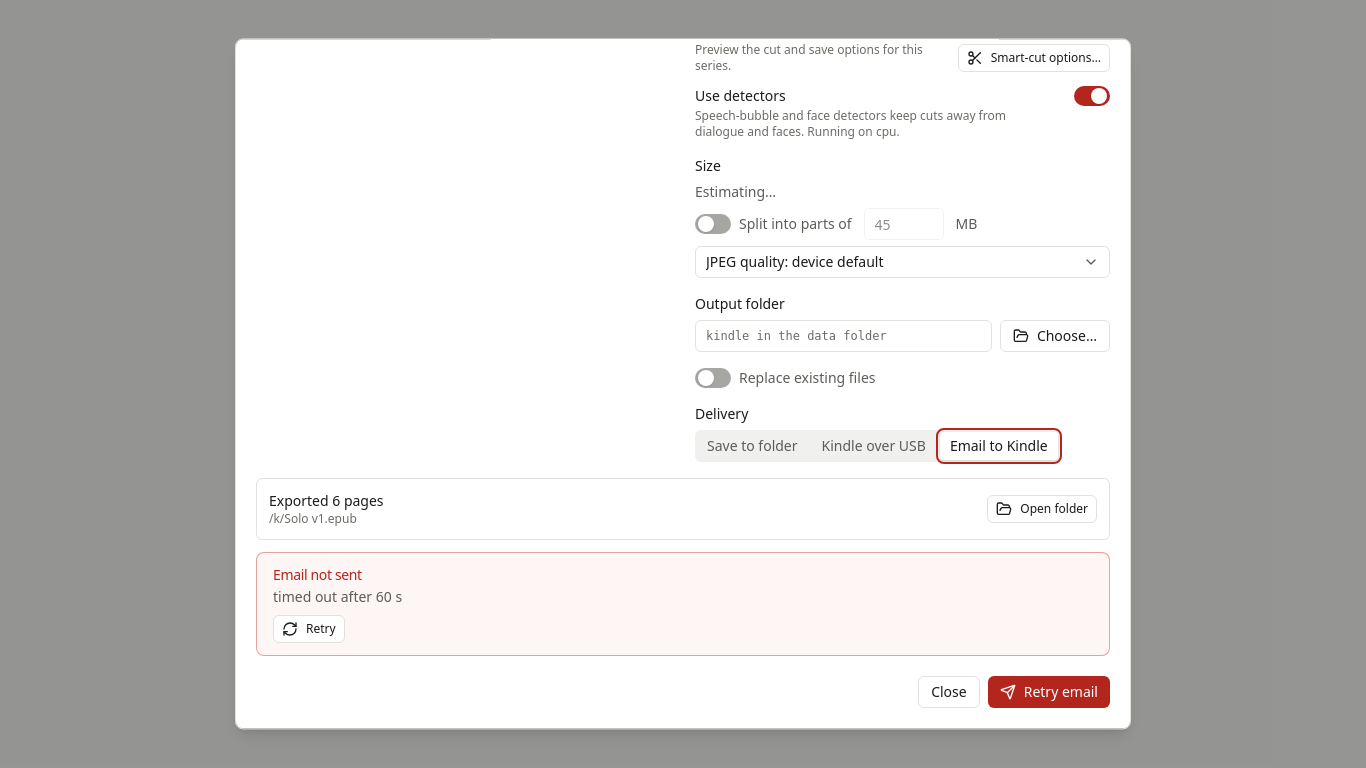
Test: export dialog: Retry after a failed delivery › emails the written book again instead of exporting it again
Earlier steps of the test are not shown.
(page scrolled)
Check: the text "timed out after 60 s Retry" is shown, box [273, 587, 402, 643]
Click the button "Retry email" at [1049, 692], box [988, 676, 1110, 708]
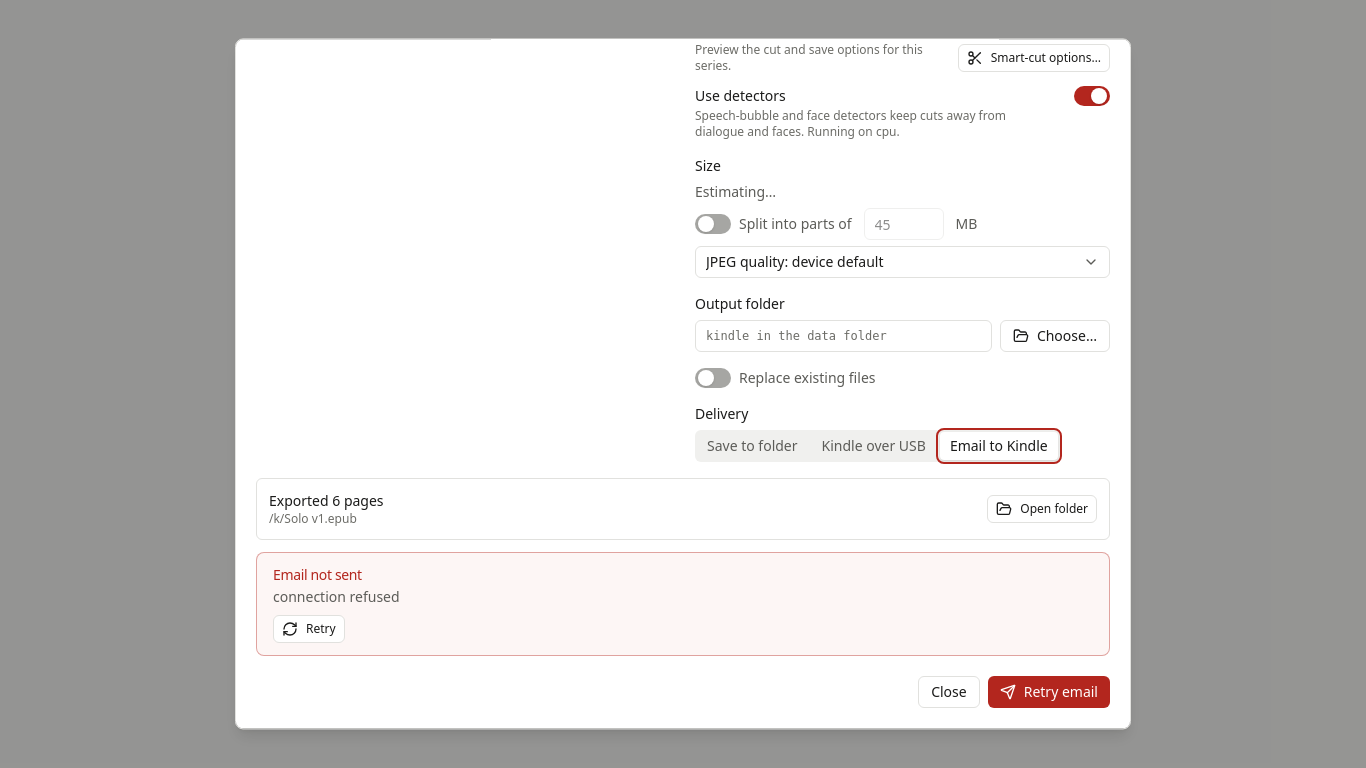
Check: the text "connection refused Retry" is shown, box [273, 587, 400, 643]
Click the button "Retry" at [309, 629], box [273, 615, 345, 643]
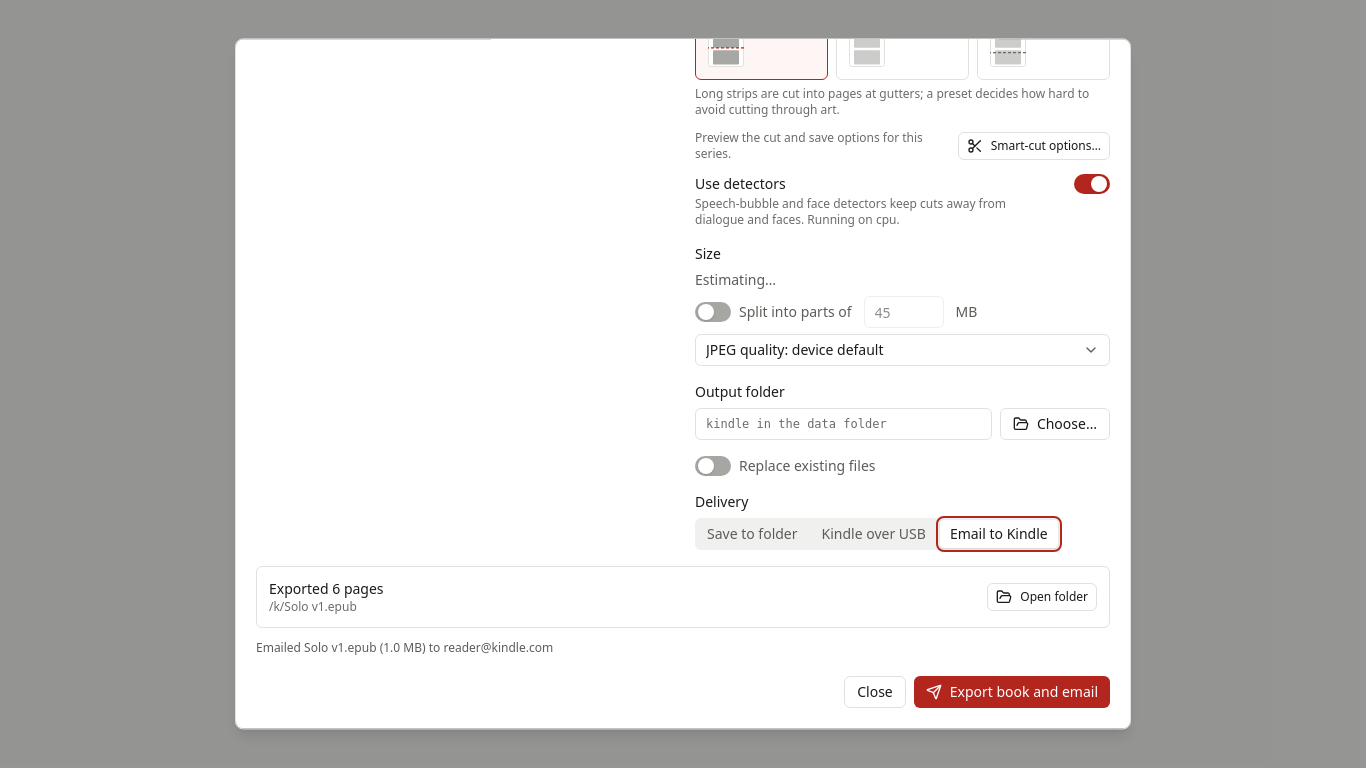
Check: the text "Emailed Solo v1.epub (1.0 MB) to reader@kindle.com" is shown, box [256, 639, 553, 656]
Check: the button "Export book and email" is shown, box [914, 676, 1110, 708]
